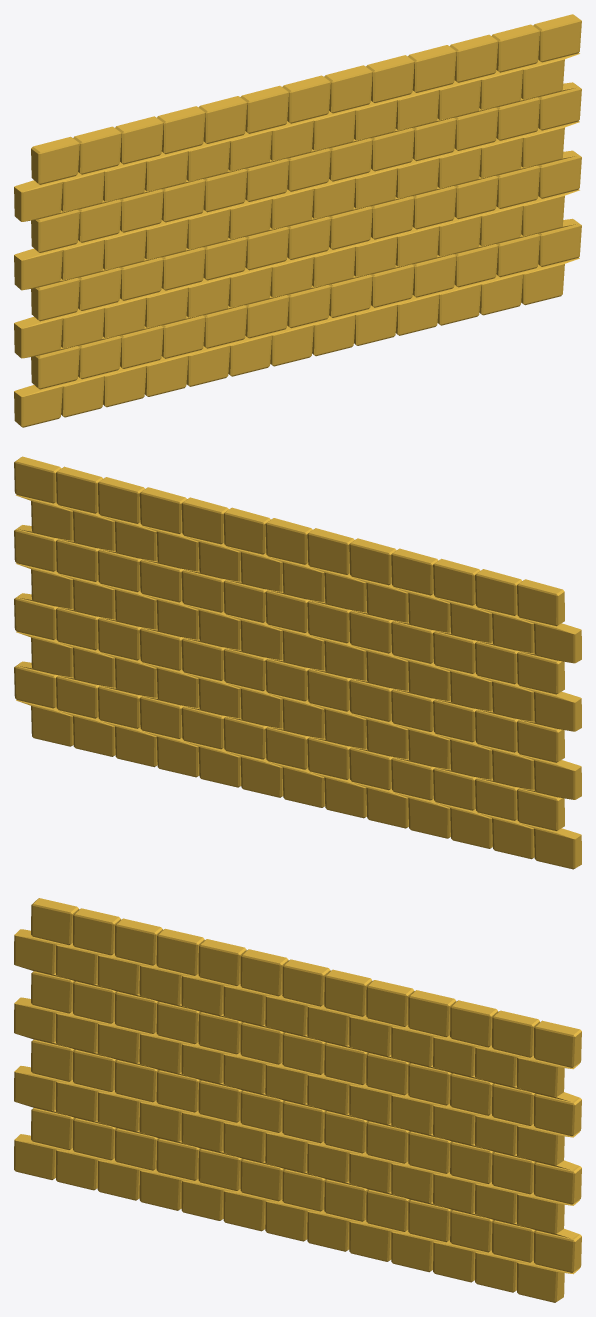
File: Muro1.fbx
The picture shows the model from 3 angles, top to bottom: view 1: azimuth 30°, elevation 25°; view 2: azimuth 150°, elevation 25°; view 3: azimuth 330°, elevation 25°; orthographic projection.
Visible parts, largest first — view 1: Muro1; view 2: Muro1; view 3: Muro1.
Part boxes in pixels (<box>): Muro1: <box>14,14,581,427</box>; Muro1: <box>14,456,581,869</box>; Muro1: <box>14,898,581,1302</box>.
Size of the model in its own units: 1963 by 912 by 47.43.
